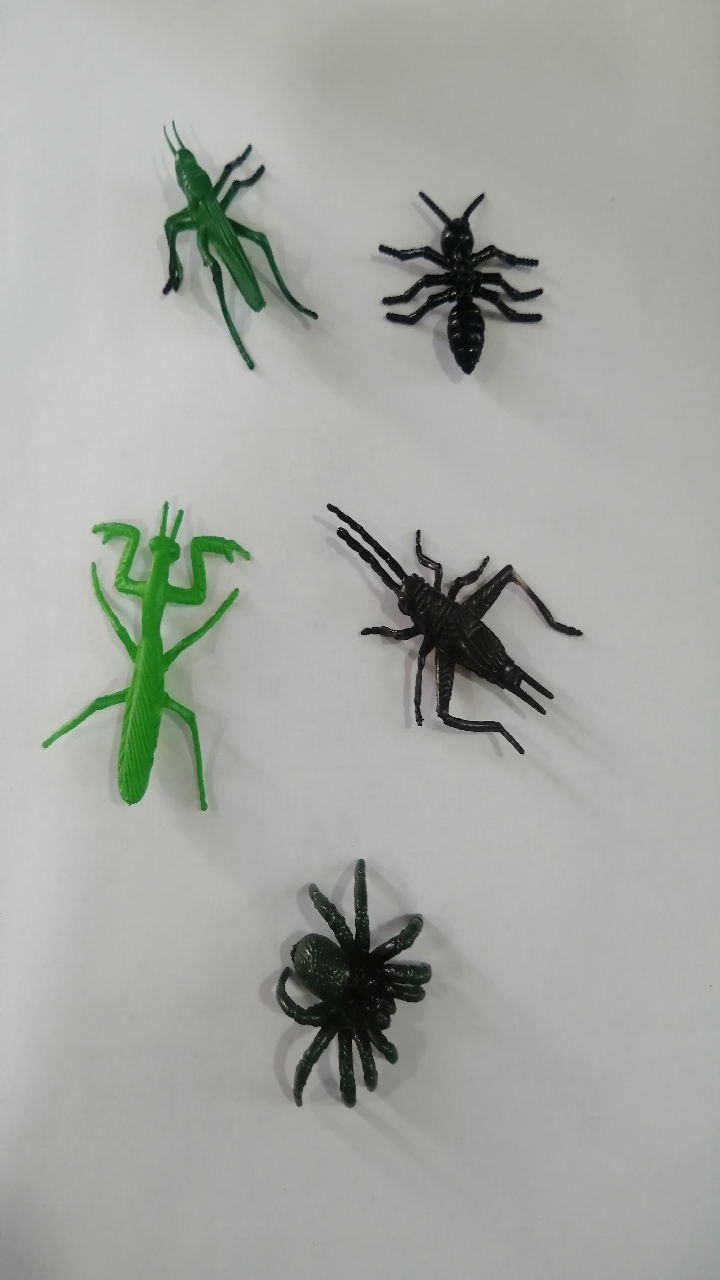intruso: (297, 468, 603, 811), (24, 465, 274, 848), (121, 83, 340, 392), (244, 839, 448, 1128), (346, 154, 561, 391)
